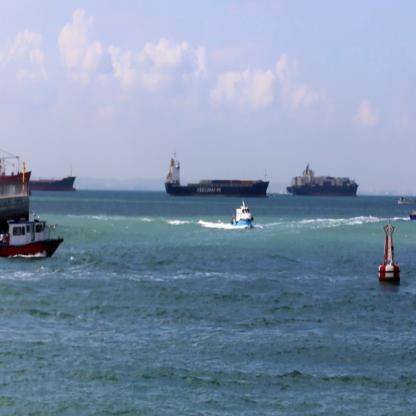Container Ship: (164, 150, 270, 200), (286, 162, 359, 198), (28, 166, 76, 192)
